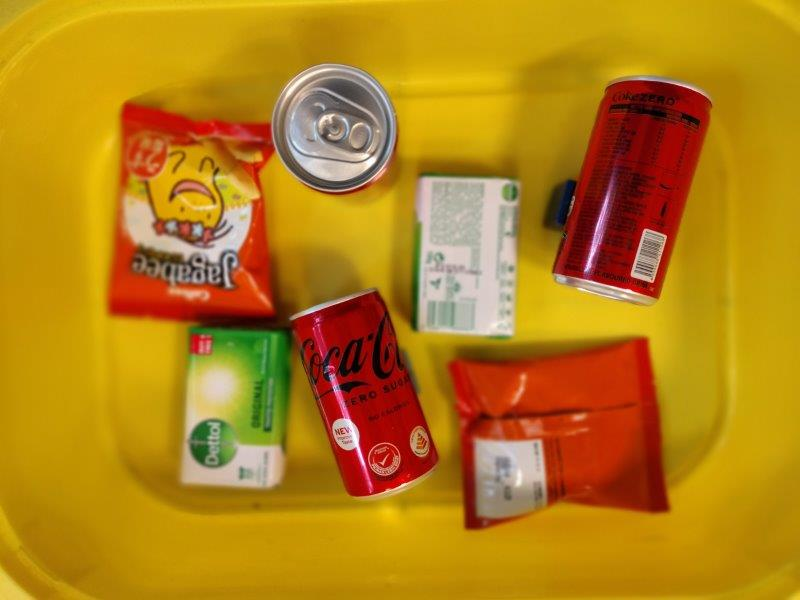Coke: (554, 75, 712, 304), (291, 287, 438, 499), (272, 64, 397, 197)
Dettol: (181, 325, 289, 488), (415, 175, 520, 337)
Jagabee: (448, 336, 672, 530), (104, 99, 275, 325)
